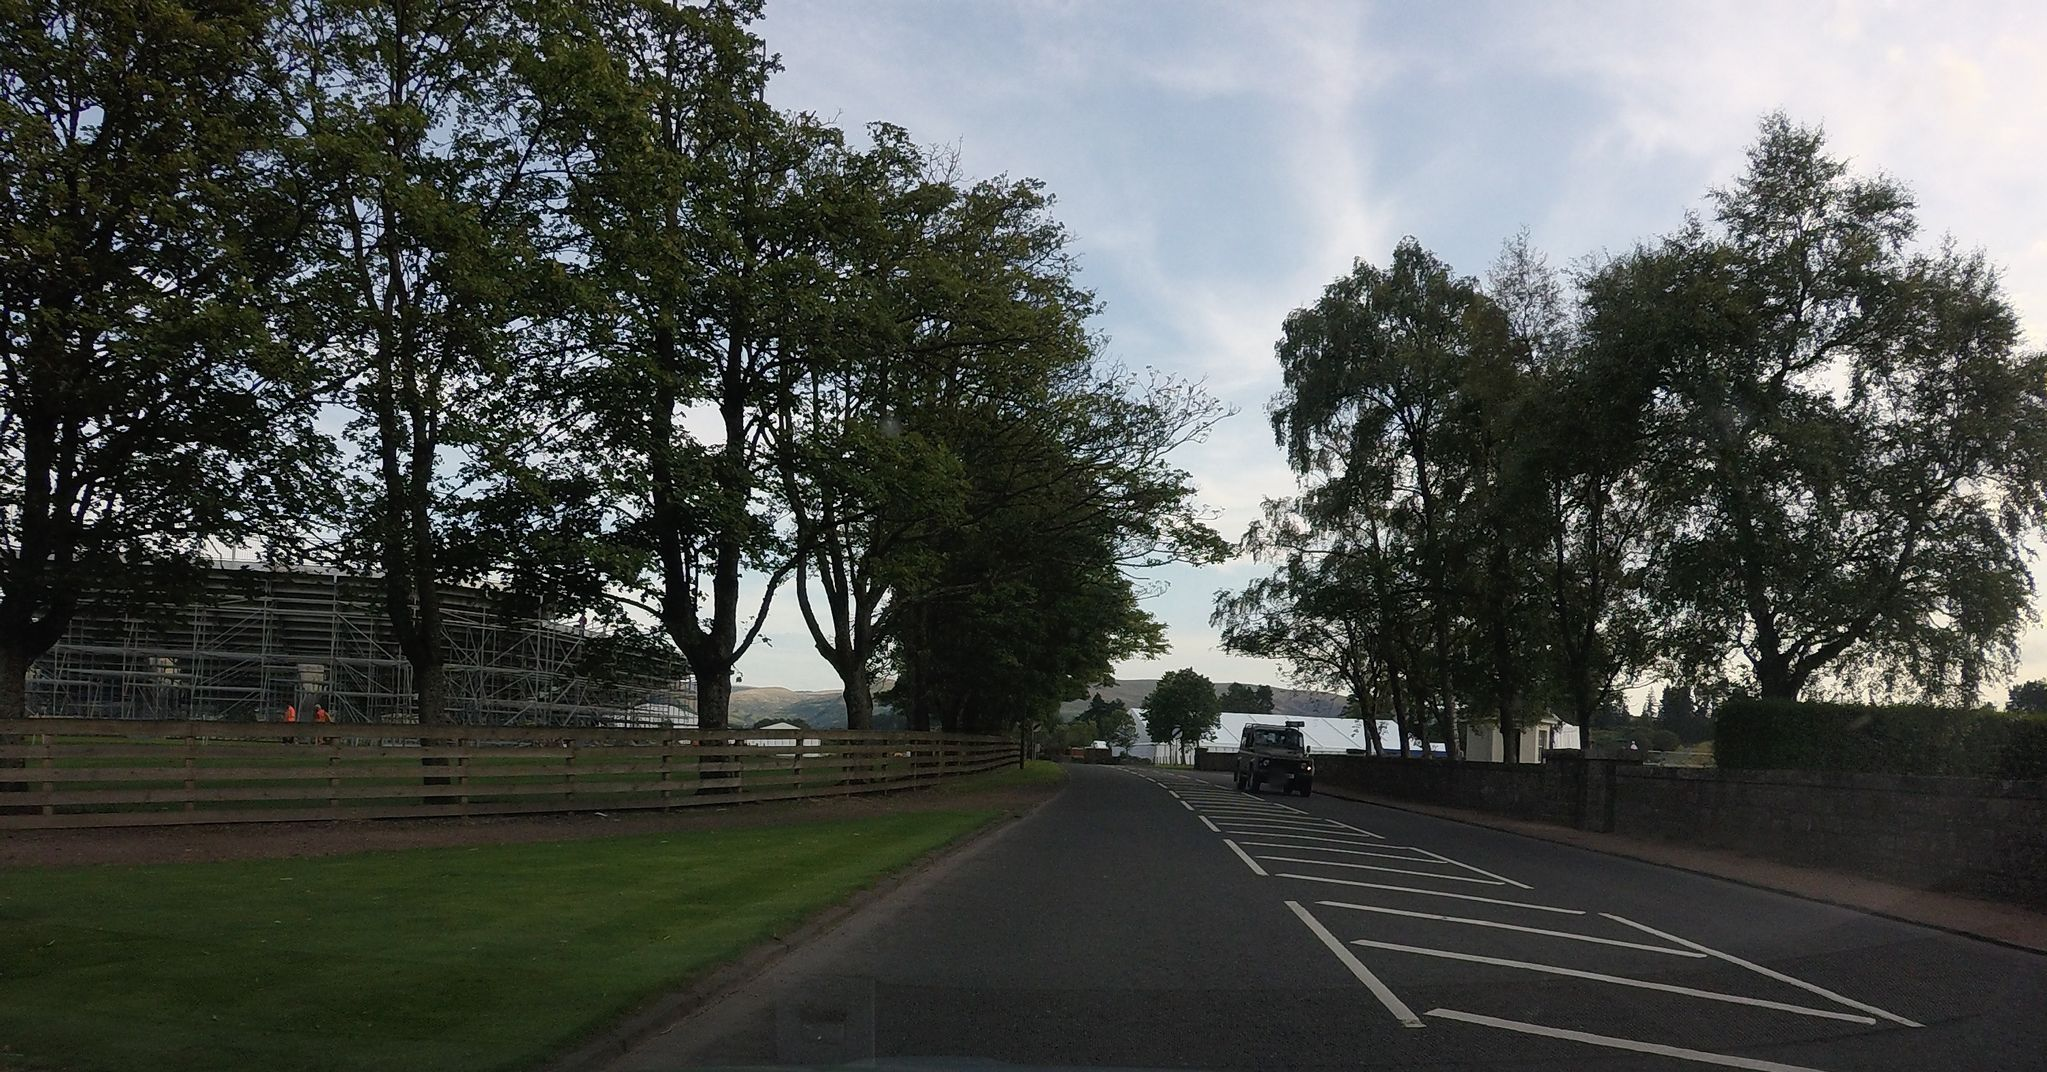car: (1233, 721, 1315, 795)
